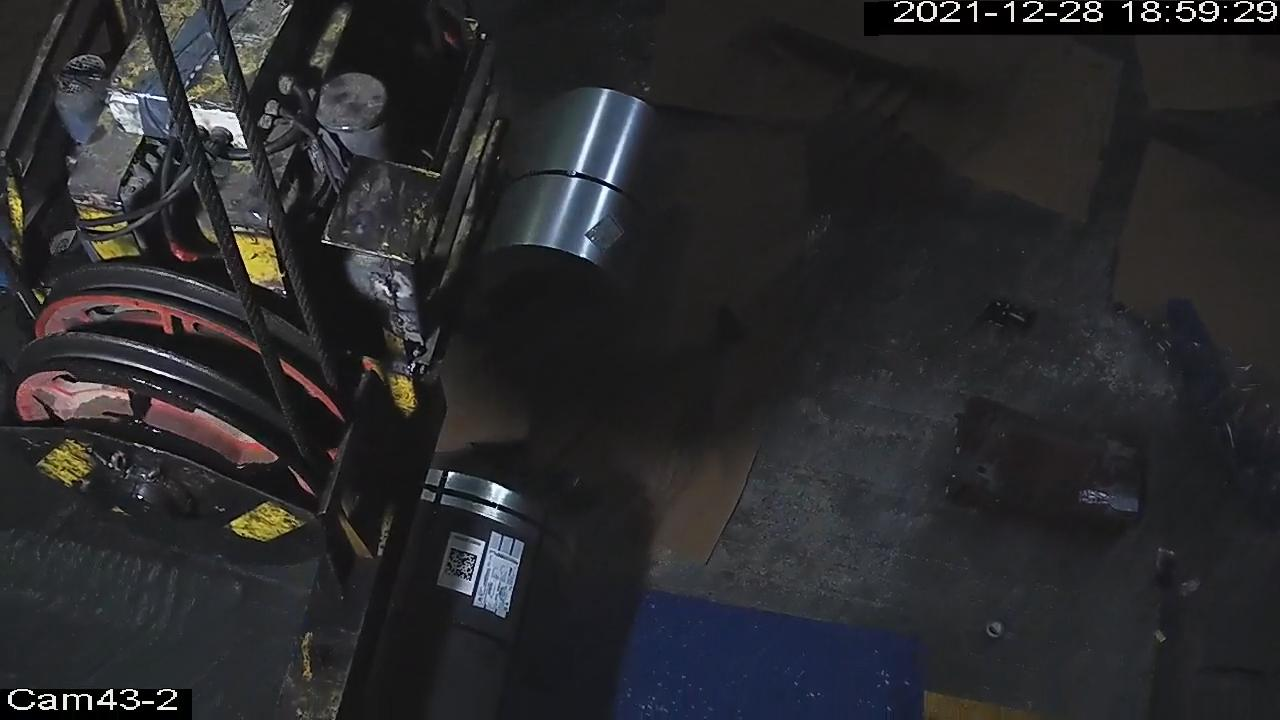data matrix: (441, 545, 480, 586)
